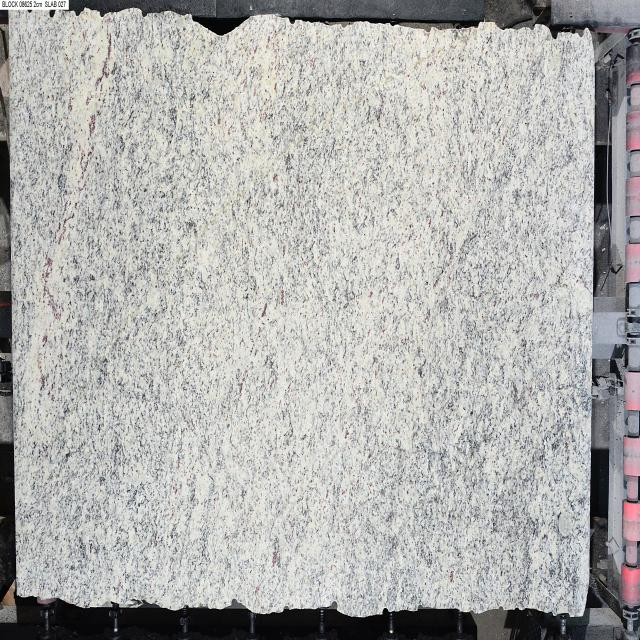chapa: (10, 10, 594, 617)
